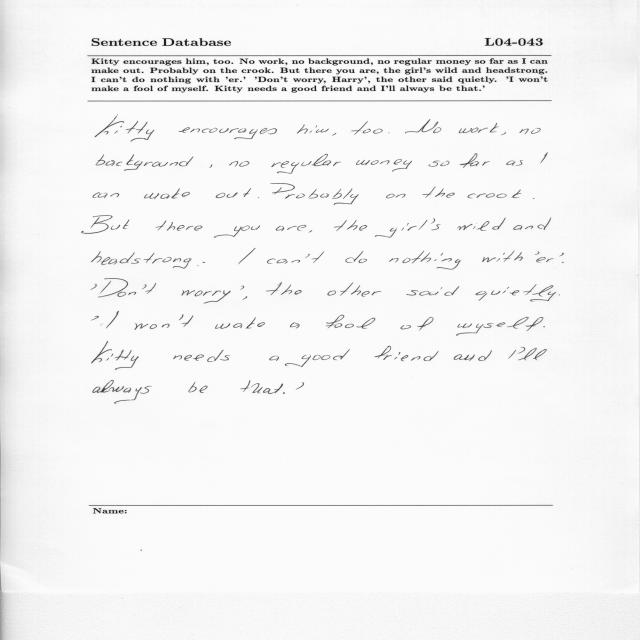word: (258, 183, 359, 205), (92, 251, 191, 269), (456, 317, 544, 336), (96, 154, 193, 171), (96, 116, 155, 142), (93, 380, 152, 404), (272, 154, 342, 174), (389, 251, 461, 270), (476, 285, 556, 302), (92, 342, 139, 370), (179, 128, 277, 140), (285, 349, 350, 367), (98, 279, 156, 298), (374, 346, 439, 361), (135, 314, 194, 330), (375, 220, 427, 238), (82, 215, 130, 234), (328, 282, 382, 297), (356, 159, 412, 172), (326, 315, 375, 329), (267, 252, 324, 264), (173, 350, 230, 362), (457, 218, 506, 231), (240, 380, 283, 394), (215, 317, 265, 329), (214, 225, 260, 238), (405, 119, 441, 134), (407, 286, 460, 296), (156, 220, 203, 231), (508, 347, 547, 360), (144, 189, 190, 200), (513, 218, 551, 231), (401, 317, 434, 331), (266, 282, 301, 295), (482, 251, 523, 262), (460, 153, 490, 168), (351, 121, 383, 135), (459, 123, 499, 133), (204, 290, 231, 304), (422, 187, 455, 198), (334, 220, 367, 231), (100, 311, 119, 329), (297, 124, 329, 134), (238, 248, 256, 264), (346, 251, 367, 263), (188, 382, 208, 393), (535, 252, 554, 263), (468, 193, 507, 198), (276, 225, 306, 231), (93, 193, 119, 199), (478, 350, 492, 361), (454, 354, 475, 361), (216, 193, 238, 199), (520, 128, 541, 134), (429, 161, 450, 167), (182, 291, 203, 297), (229, 161, 249, 167), (431, 219, 441, 230), (506, 160, 523, 166), (540, 153, 548, 163), (386, 194, 406, 198), (512, 190, 522, 198), (243, 188, 251, 197), (296, 382, 304, 390), (290, 322, 299, 329), (269, 356, 279, 361), (203, 291, 211, 296), (91, 284, 97, 290), (197, 262, 205, 266), (92, 316, 99, 320), (242, 296, 247, 300), (240, 286, 244, 290), (501, 132, 506, 135), (559, 253, 564, 256), (332, 133, 336, 136), (210, 164, 213, 168), (309, 230, 312, 233), (283, 392, 285, 394), (561, 262, 564, 263), (558, 295, 560, 296), (543, 327, 545, 328), (388, 133, 390, 133)
